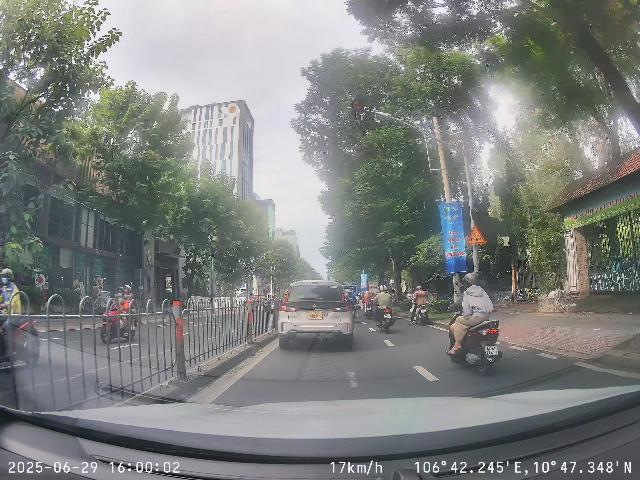245-di-cham: (467, 225, 486, 244)
